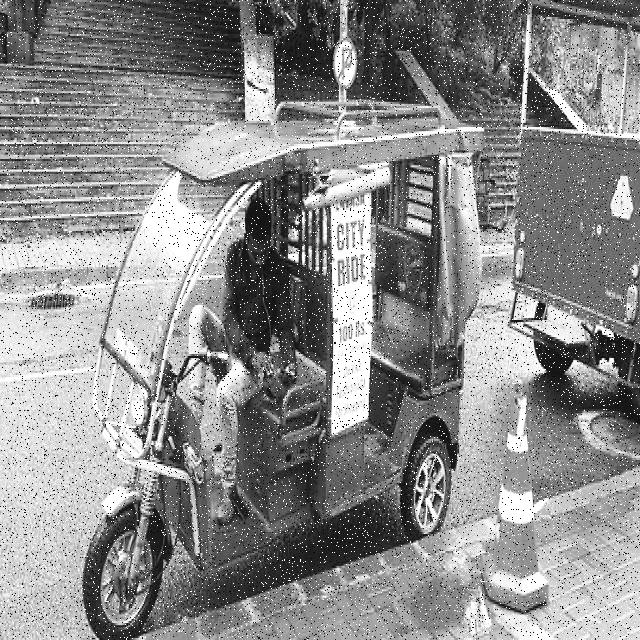Toto: (92, 91, 484, 640)
